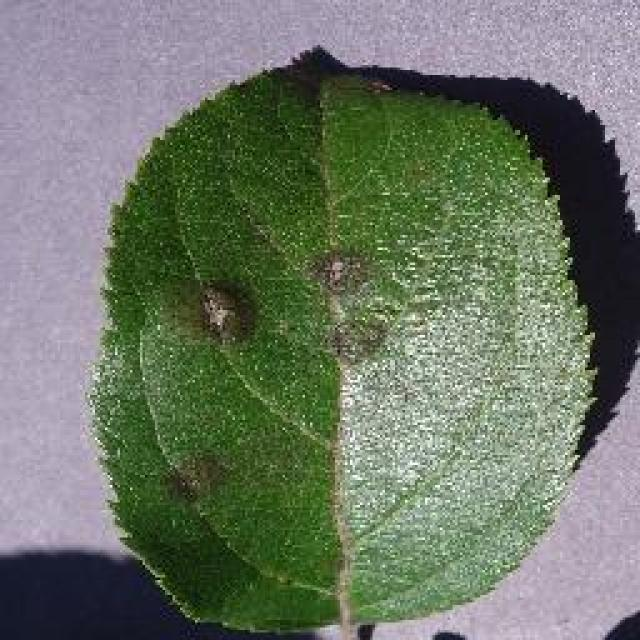apple scab disease: (85, 45, 605, 637)
